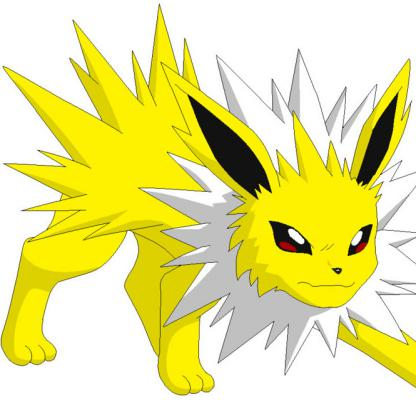Jolteon: (1, 1, 416, 400)
